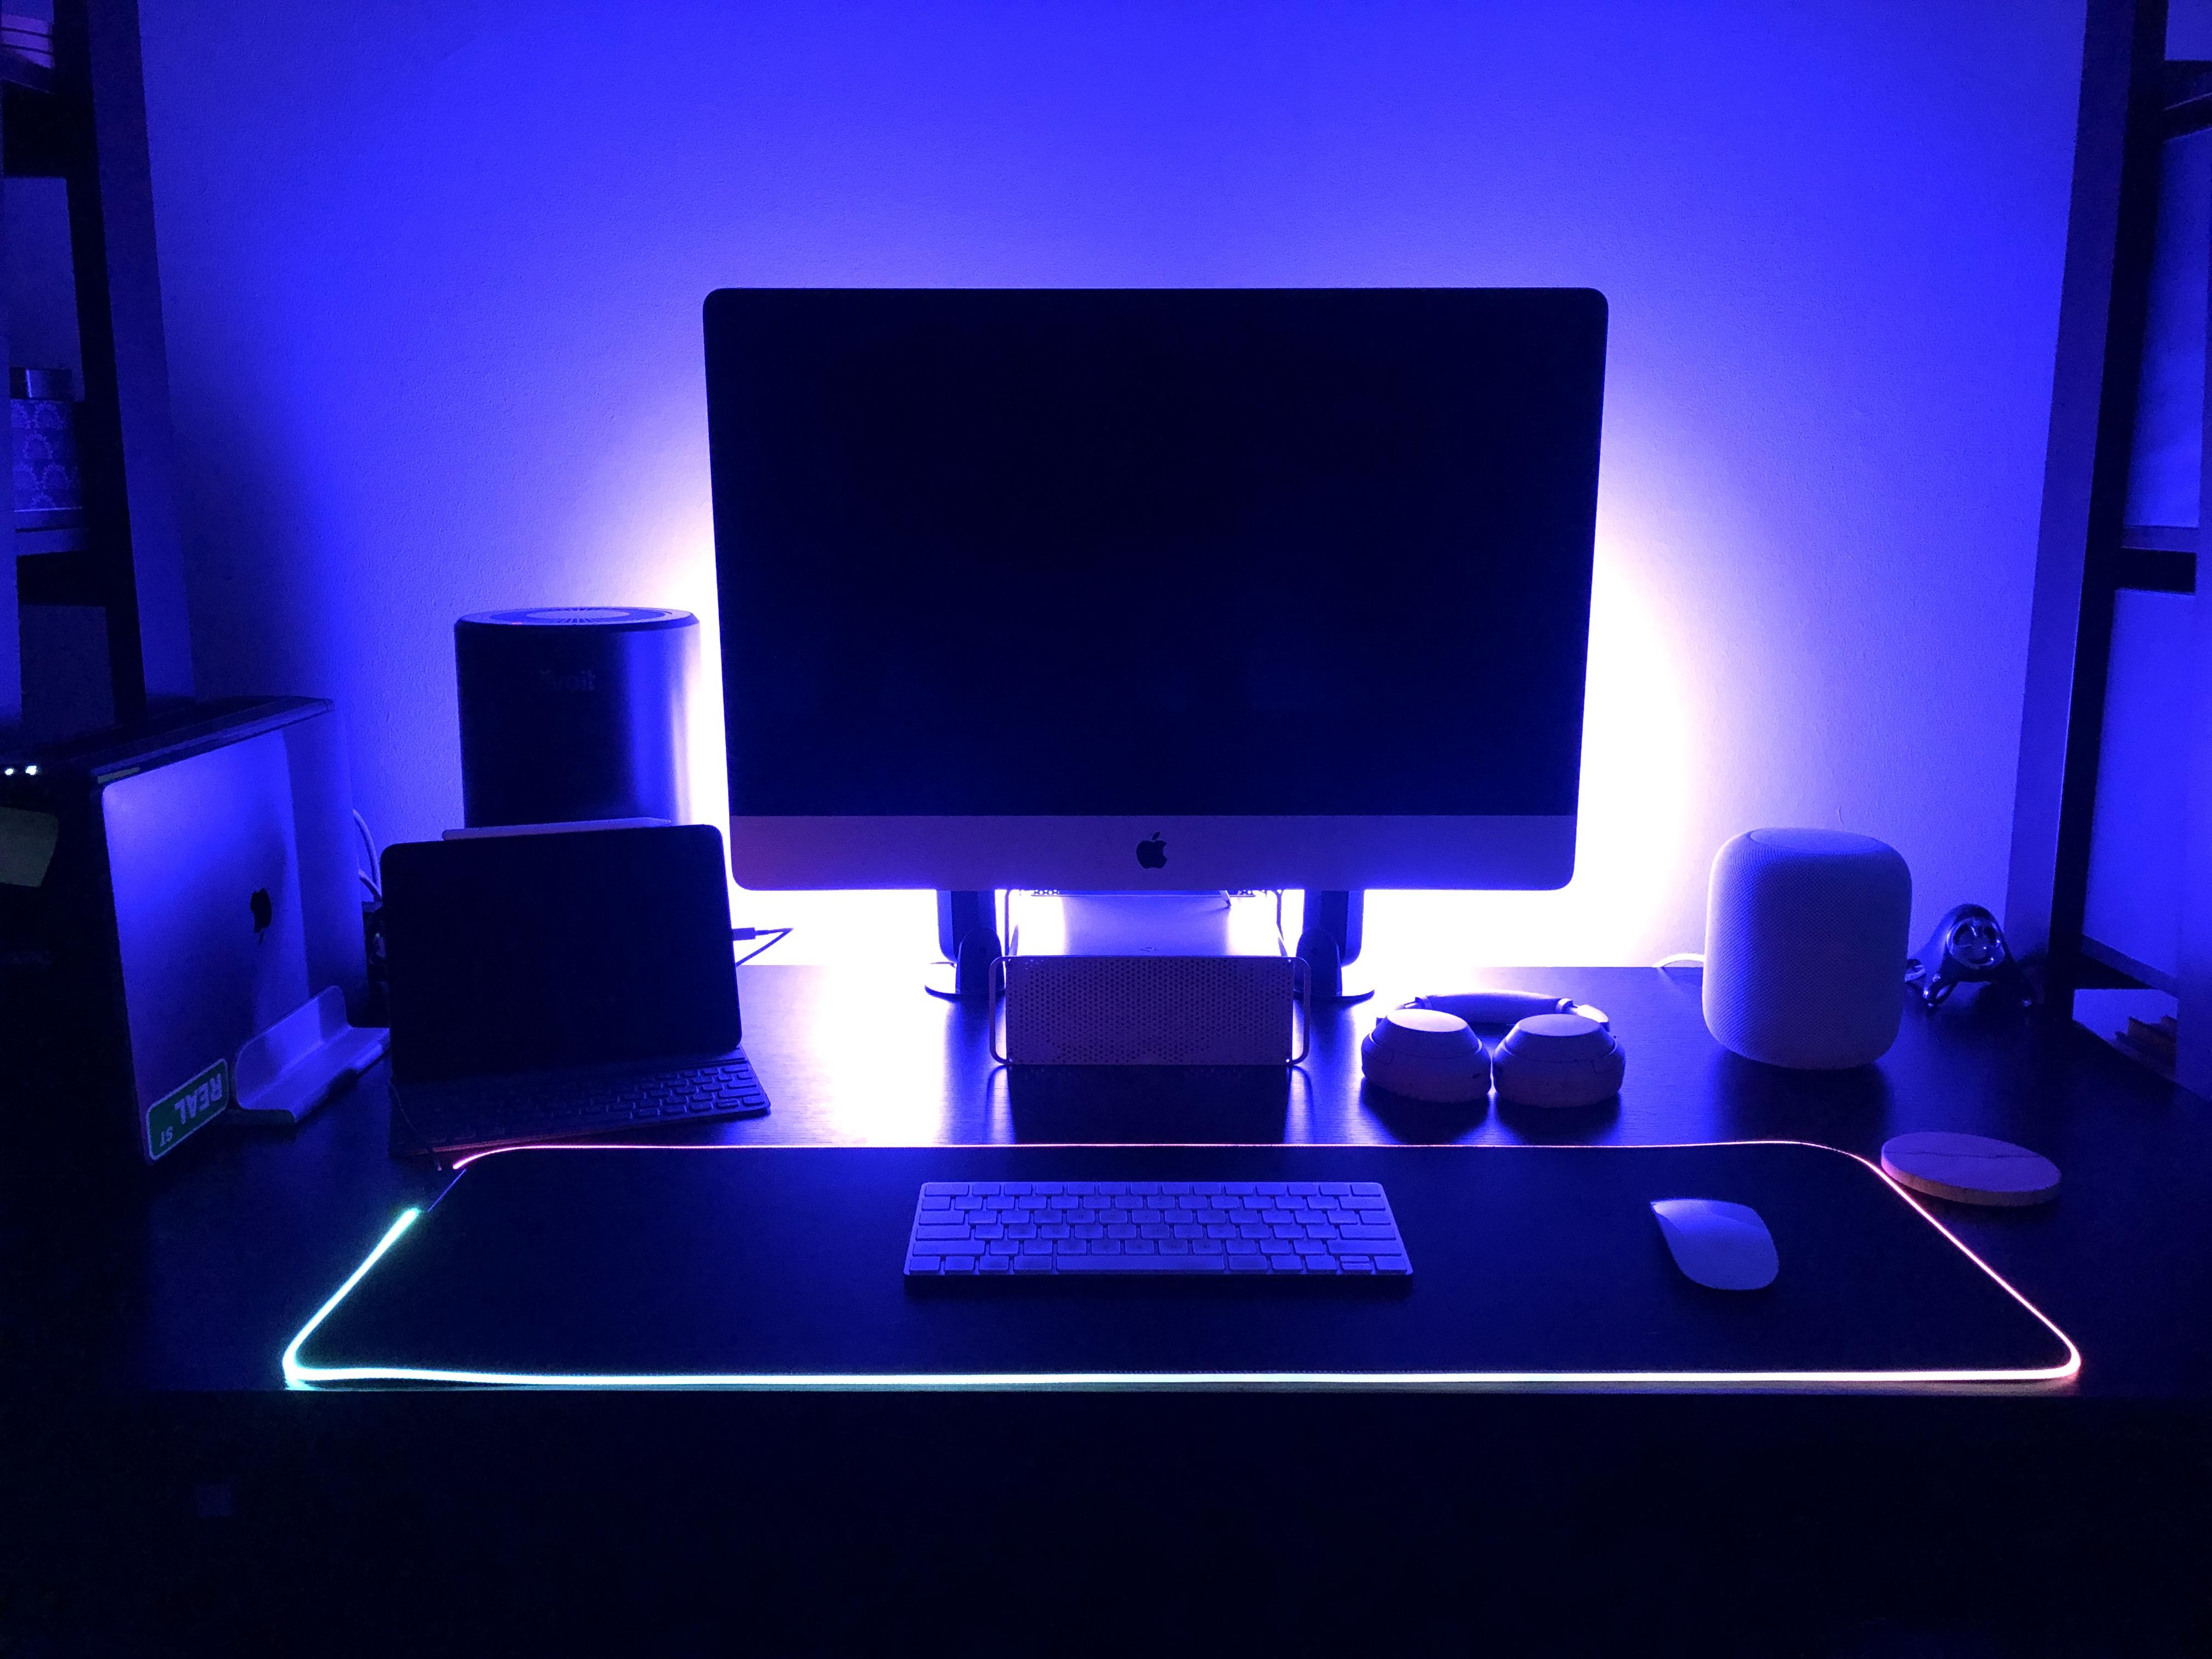Desk (Generic): (56, 951, 2207, 1617)
Drink Coaster: (1878, 1112, 2071, 1216)
External Speakers (Generic): (1696, 821, 1916, 1070)
Headphones (with Microphone): (1357, 972, 1632, 1114)
Keyboard (Generic): (892, 1168, 1418, 1293)
Laptop (OSX): (68, 687, 378, 1145)
Laptop Stand: (192, 972, 395, 1140)
Monitor (iMac): (700, 288, 1580, 889)
Mouse (Generic): (1635, 1180, 1799, 1309)
Mousepad (Gaming): (320, 1140, 2092, 1399)
Tablet (iPad): (362, 826, 772, 1129)
